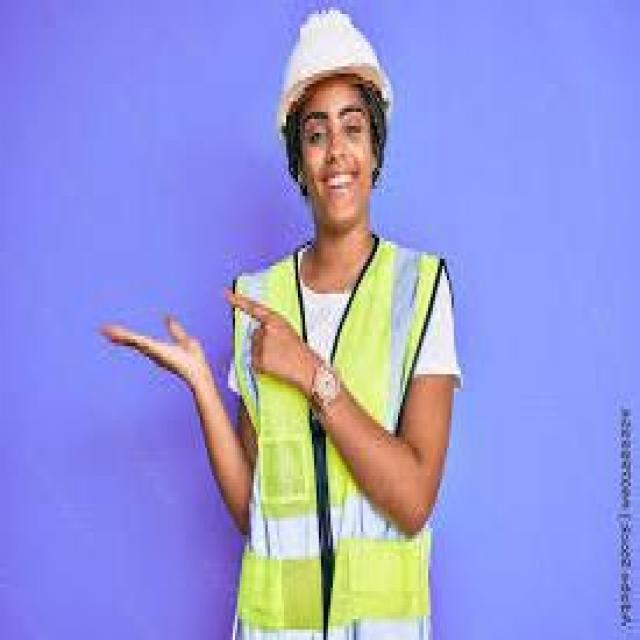Reflective-Jacket: (223, 242, 447, 630)
Safety-Helmet: (270, 4, 393, 130)
